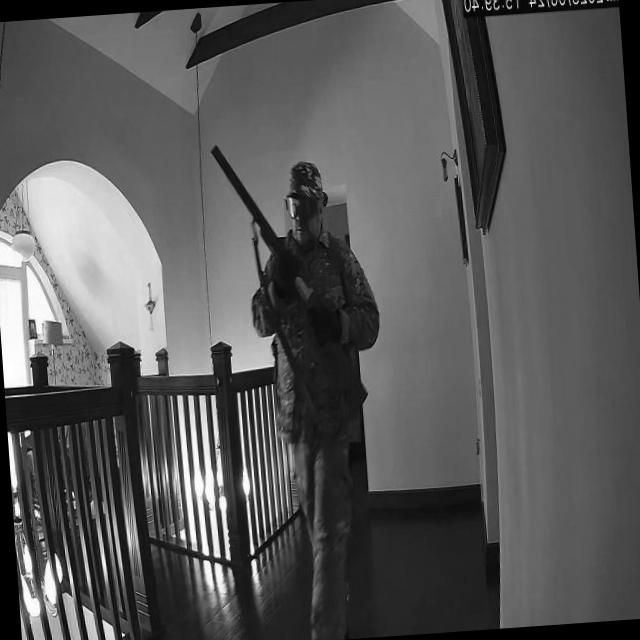gun: (208, 132, 370, 416)
person with a gun: (210, 133, 403, 640)
